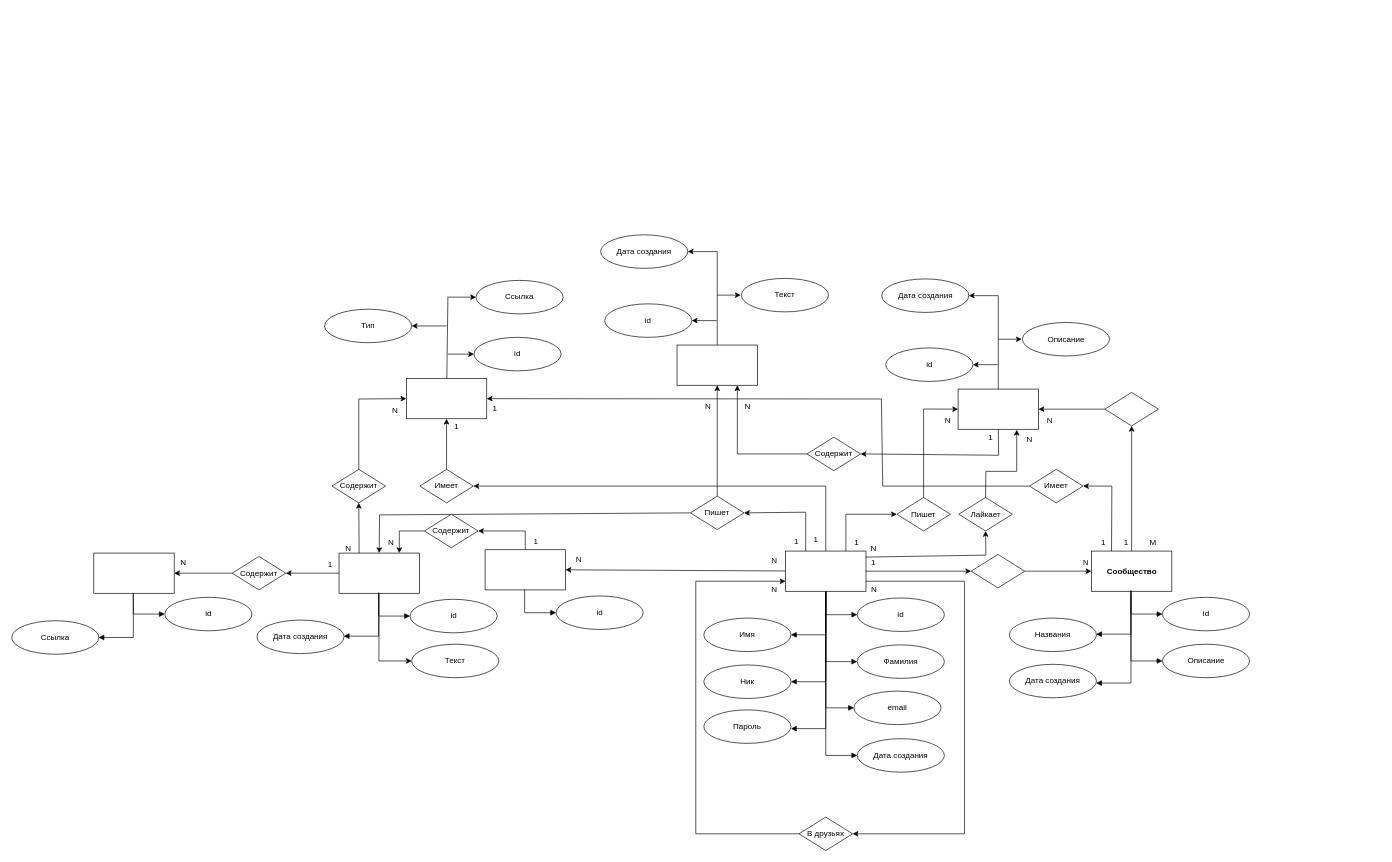
The diagram is 1392 pixels wide and 862 high, and some of its shapes have lost their labels. Each missing label, with the centre of its shape:
Вложение: pixel 446 398
Комментарий: pixel 716 364
Пользователь: pixel 825 570
Пост: pixel 997 408
Публикует: pixel 1131 409
Создает: pixel 997 571
Сообщение: pixel 378 572
Стикер: pixel 133 572
Чат: pixel 524 569
